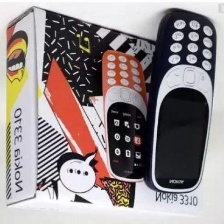book: (2, 2, 207, 219)
phone: (140, 6, 220, 199)
